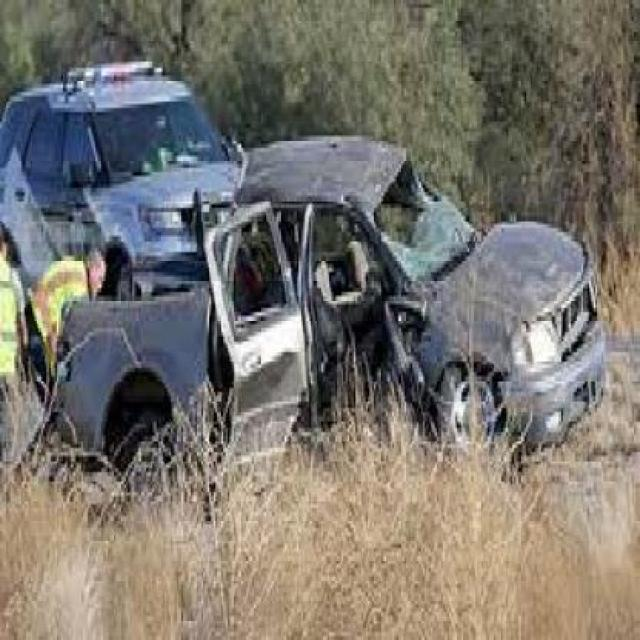accident: (39, 95, 616, 567)
